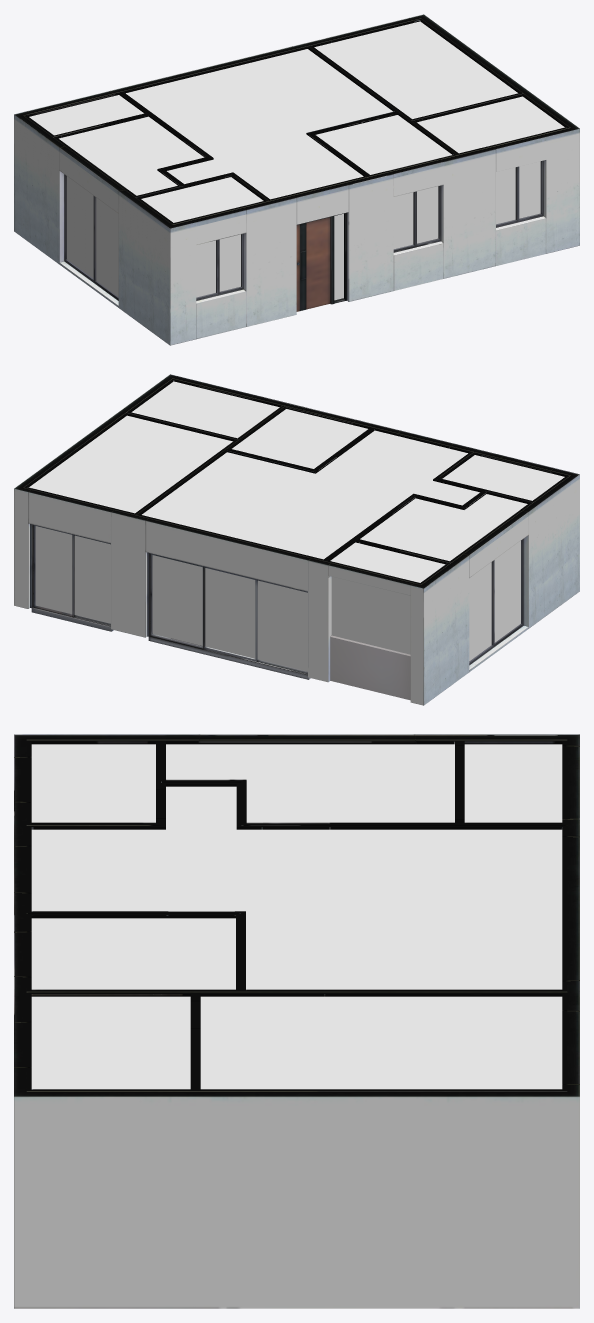
File: TeRaki-05-pbr.glb
3 renders of one model, top to bottom at view 1: azimuth 30°, elevation 25°; view 2: azimuth 150°, elevation 25°; view 3: azimuth 270°, elevation 25°, orthographic. The views are drawn at different scales.
Visible parts, largest first — view 1: clip, Apartment.003, openings; view 2: clip, Apartment.003, openings, Cube; view 3: clip, Apartment.003.
Part boxes in pixels (x1,y1,x2,y2): clip: (29,21,564,300); Apartment.003: (14,14,579,345); openings: (64,160,543,311); clip: (29,381,564,671); Apartment.003: (14,374,579,705); openings: (30,524,523,679); Cube: (330,635,410,700); clip: (31,744,562,1089); Apartment.003: (14,734,579,1308).
Bounding box in the file's own units: 10.26 × 2.9 × 6.77.
35 materials, 34 textured.
